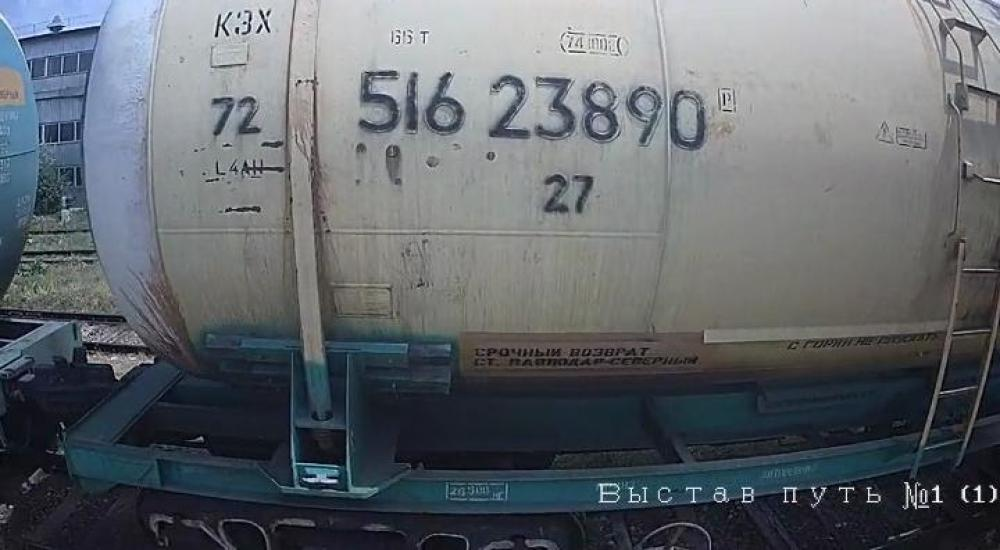Wagon-number: (352, 63, 713, 157)
